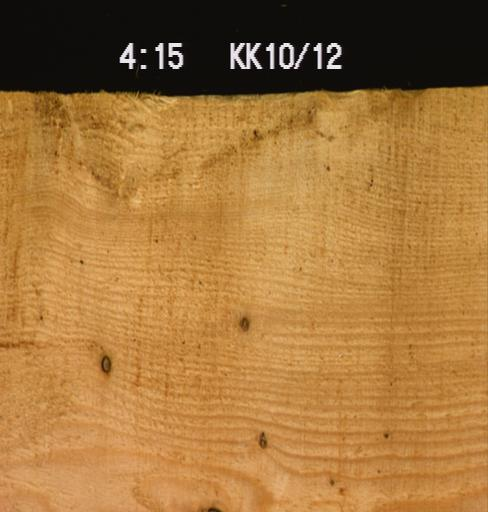dry_knot: (237, 313, 250, 332)
small_knot: (254, 430, 268, 448)
